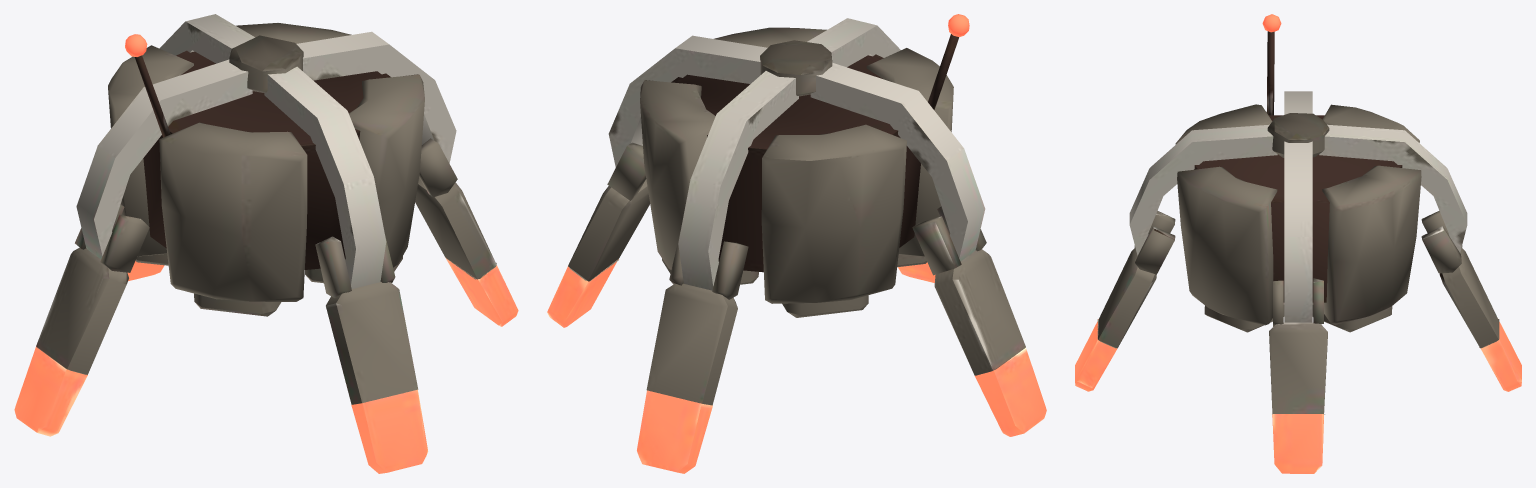
The model's file is logistic-robot.glb.
The picture shows the model from 3 angles, left to right: view 1: azimuth 30°, elevation 25°; view 2: azimuth 150°, elevation 25°; view 3: azimuth 270°, elevation 25°; orthographic projection. The views are drawn at different scales.
Parts seen in each view (by area): view 1: body, anim_thrusters; view 2: body, anim_thrusters; view 3: body, anim_thrusters.
Boxes of the visible parts, <box> form: body: <box>76,14,456,316</box>; anim_thrusters: <box>14,138,518,473</box>; body: <box>608,18,985,317</box>; anim_thrusters: <box>547,142,1046,473</box>; body: <box>1129,31,1467,332</box>; anim_thrusters: <box>1075,210,1521,473</box>.
Bounding box in the file's own units: 0.9387 × 0.7233 × 0.9387.
4 materials, 2 textured.
